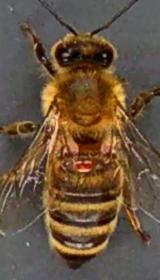varroa_mite: (70, 156, 102, 178)
